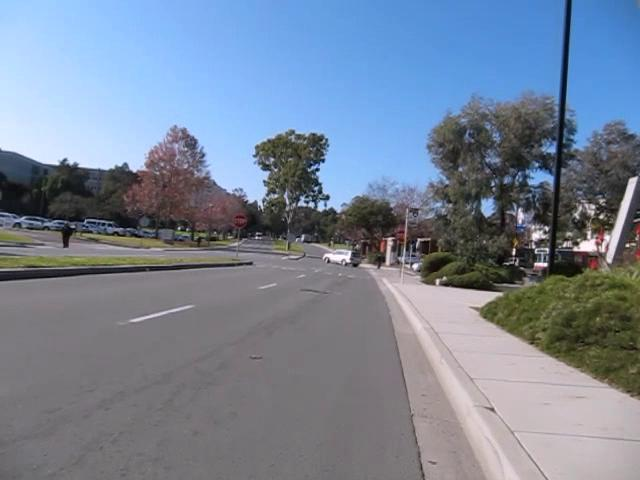stop: (231, 212, 248, 229)
